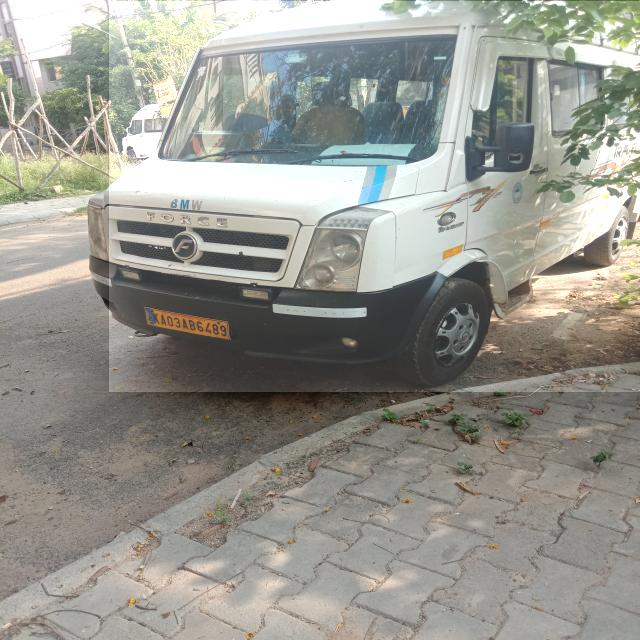Travller: (109, 1, 640, 392)
